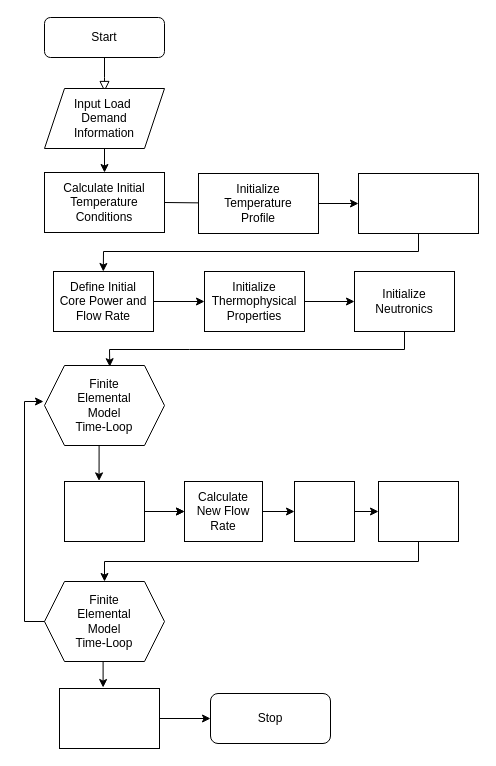
Image size: 496x766. Some labels were removed from this diagram. The centre of each missing label's shape, as x and y in pixels:
Append Neutronics: (x=324, y=511)
Calculate New Core Power: (x=418, y=511)
Initialize Heat Exchanger Power Transient: (x=418, y=203)
Record/Plot Results: (x=109, y=718)
Spatial Advancement: (x=104, y=511)
